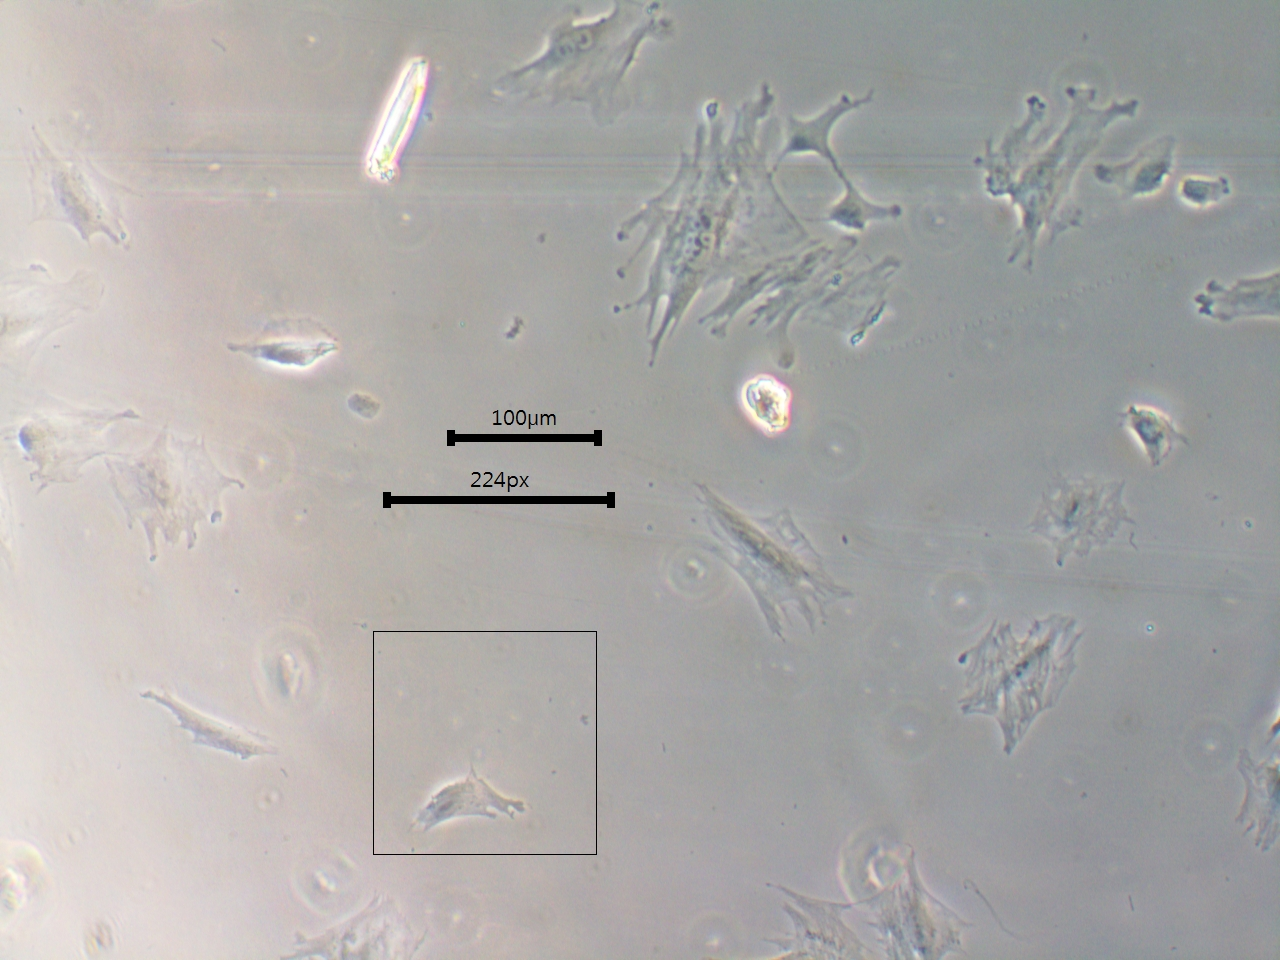dividing: (612, 102, 799, 367), (684, 475, 859, 645), (487, 4, 676, 127)
medium-spread: (955, 607, 1097, 757), (1031, 466, 1142, 573)
small-polygonal: (771, 85, 874, 177), (812, 183, 908, 232)
small-spread: (222, 308, 355, 380), (1091, 129, 1181, 214), (1106, 399, 1197, 473)
